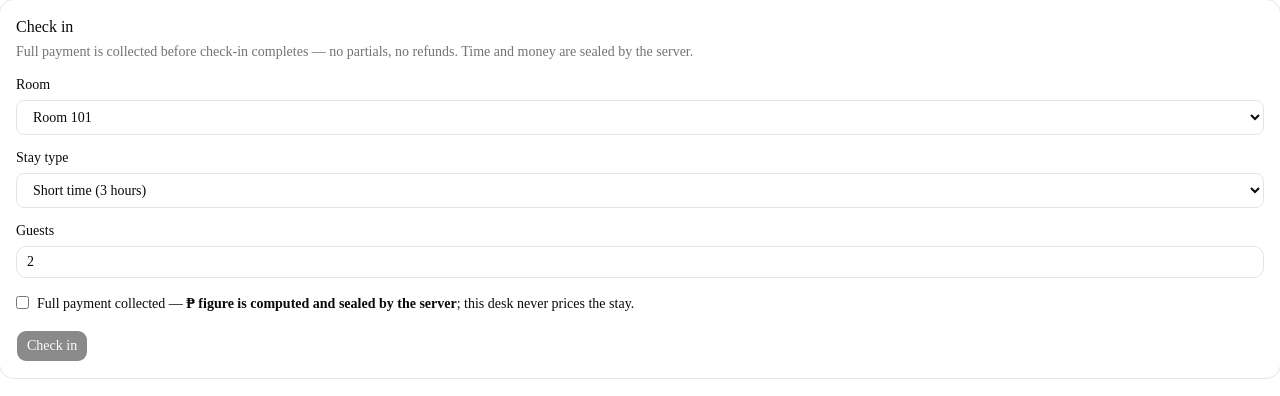
Test: CheckInForm — the payment-confirmation gate (vault-10) › keeps the submit disabled until full payment is confirmed
The image size is (1280, 396).
Expected: the button with test id "check-in-submit" is disabled, [16,330,88,362]
What coordinates should you click on to do the following:
click the checkbox with test id "check-in-payment"
I would click on:
 (22, 302)
Its box is [16,296,29,309].
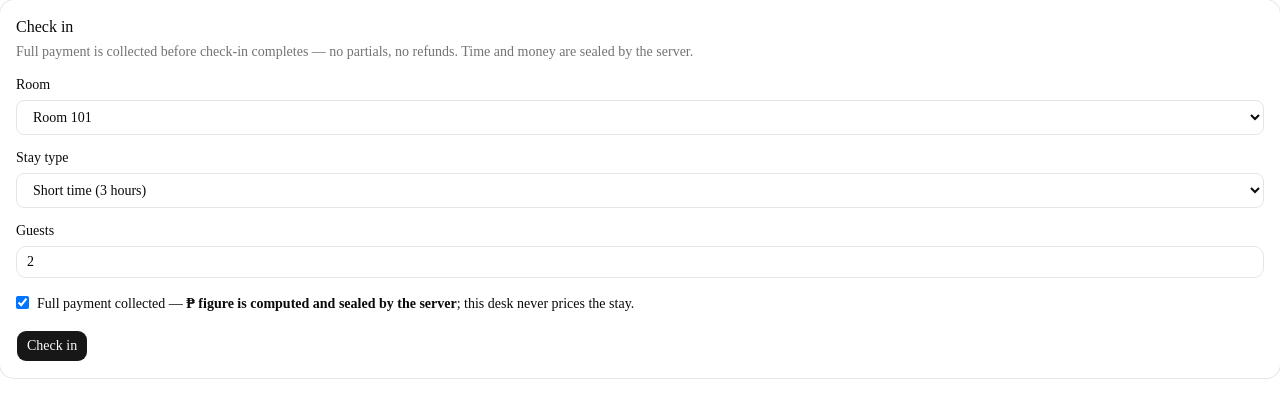
Expected: the button with test id "check-in-submit" is enabled, [16,330,88,362]
